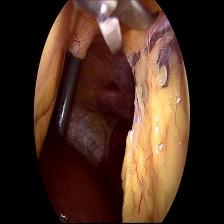Scissors: (70, 0, 160, 56)
